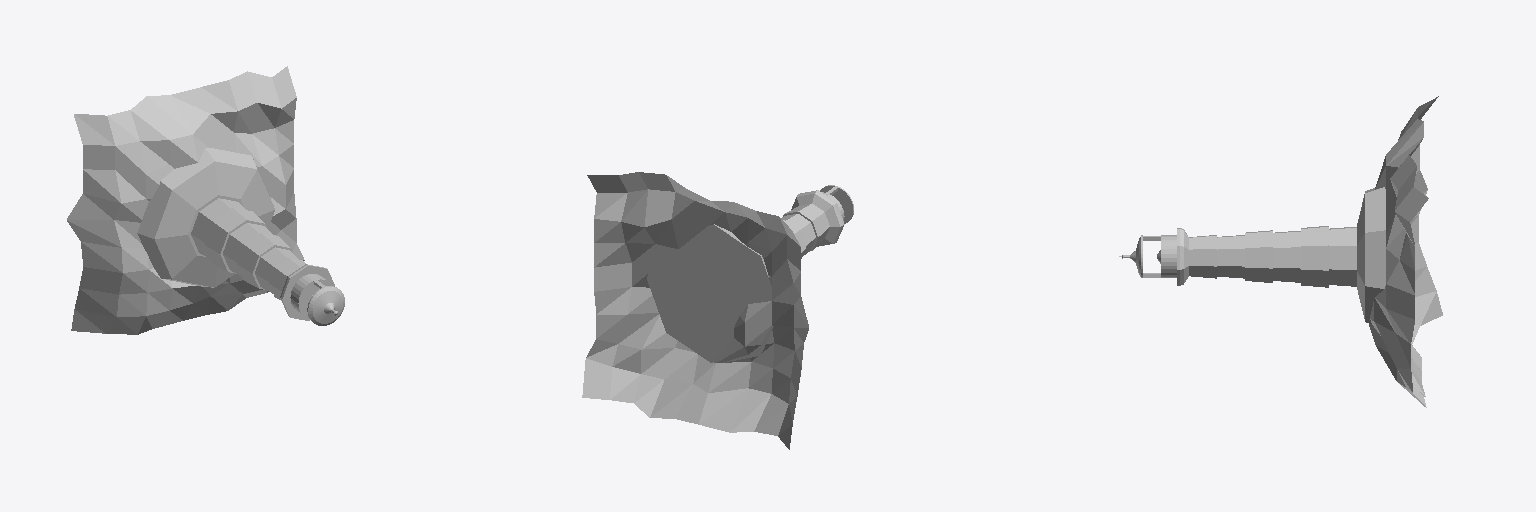
Rendered from lighthouse.obj.
3 views of the same model, side by side, from view 1: azimuth 30°, elevation 25°; view 2: azimuth 150°, elevation 25°; view 3: azimuth 270°, elevation 25° (orthographic).
Visible parts, largest first — view 1: Cube.002, Cube, Cube.001; view 2: Cube.002, Cube, Cube.001; view 3: Cube.002, Cube, Cube.001.
Boxes of the visible parts, box(x1,y1,x2,y2) form: Cube.002: box(67, 66, 304, 334); Cube: box(137, 148, 344, 325); Cube.001: box(191, 198, 334, 313); Cube.002: box(582, 172, 808, 449); Cube: box(647, 185, 853, 362); Cube.001: box(781, 214, 815, 255); Cube.002: box(1369, 96, 1442, 407); Cube: box(1119, 187, 1385, 323); Cube.001: box(1130, 227, 1356, 286).
Size of the model in its own units: 10.34 by 10.22 by 12.65.